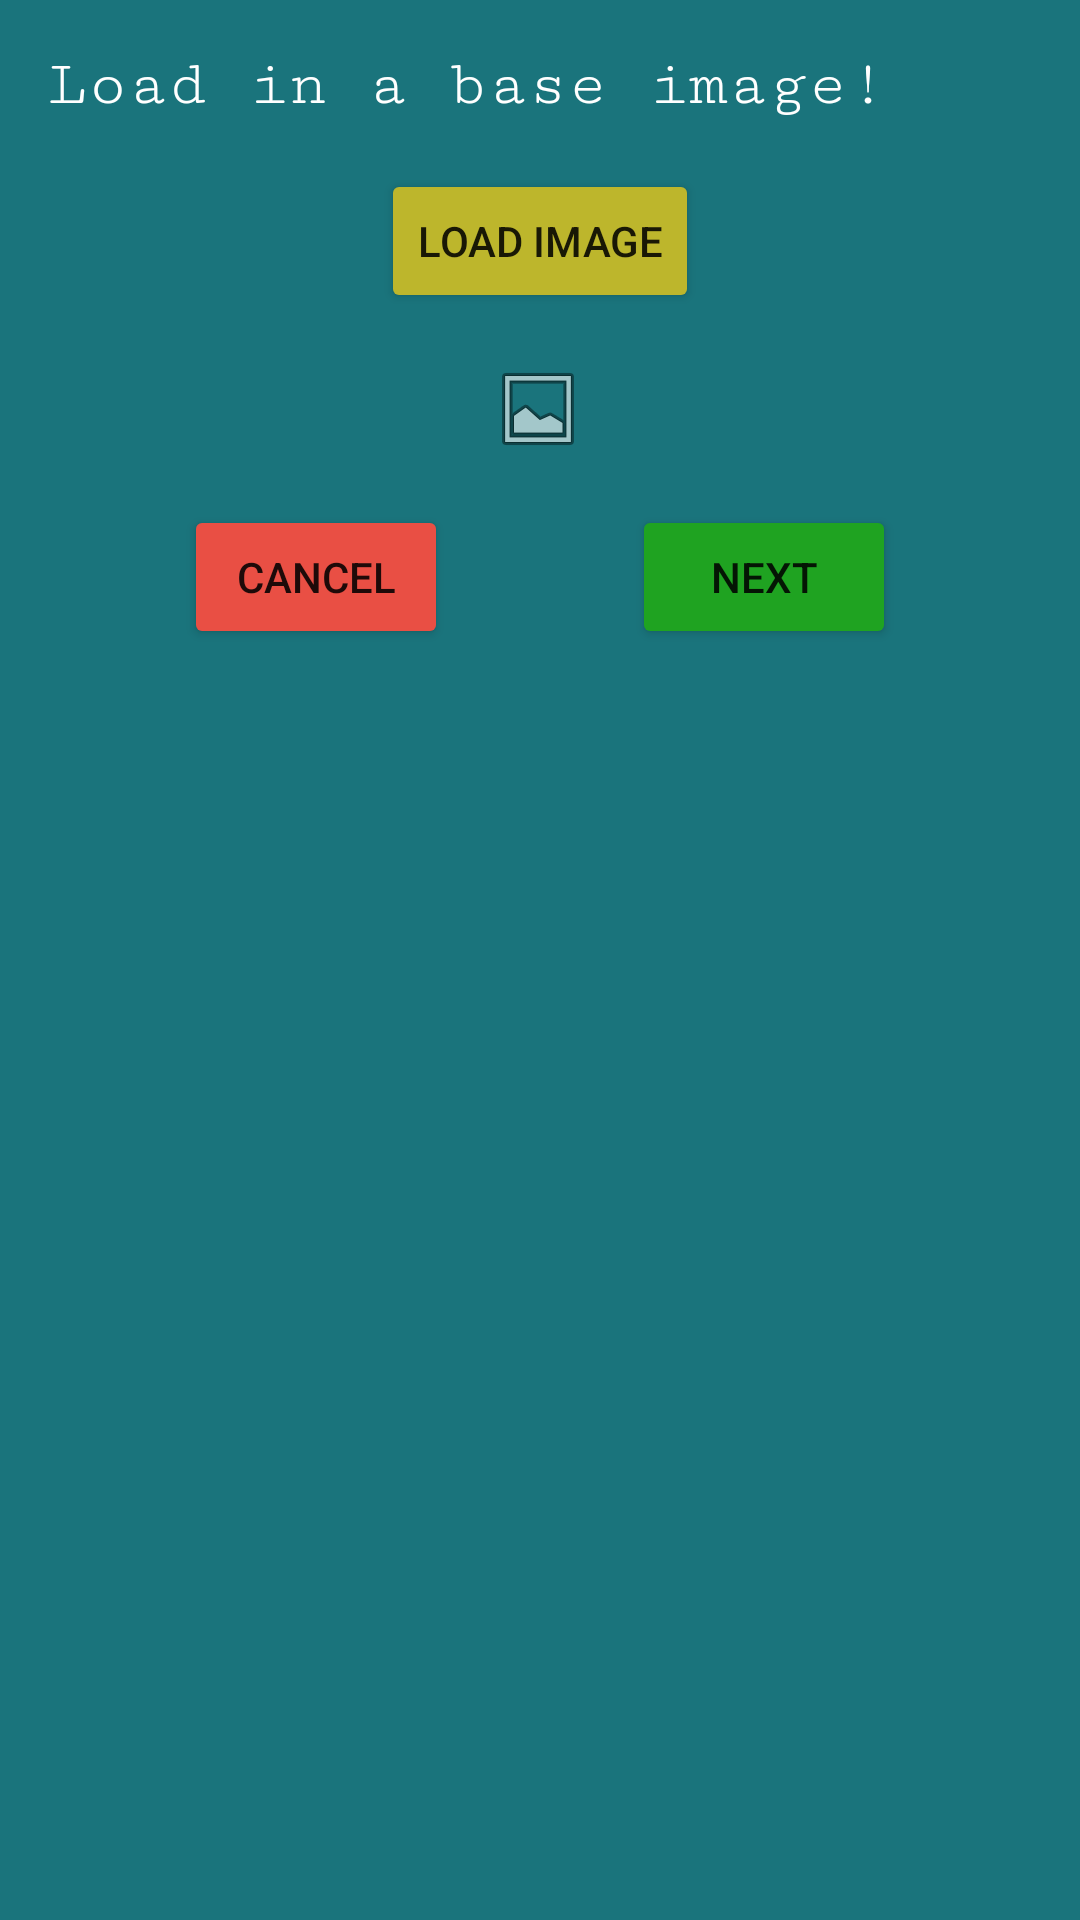

Icon click points for this 1080px×1920px phone screenshot, format (x,y):
gallery: (538,409)
